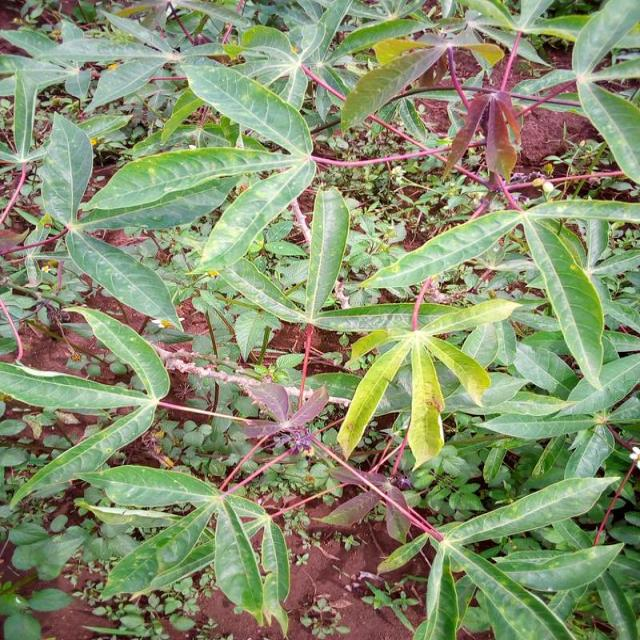cassava leaf: (0, 1, 638, 637), (335, 292, 521, 470), (180, 55, 314, 157)
